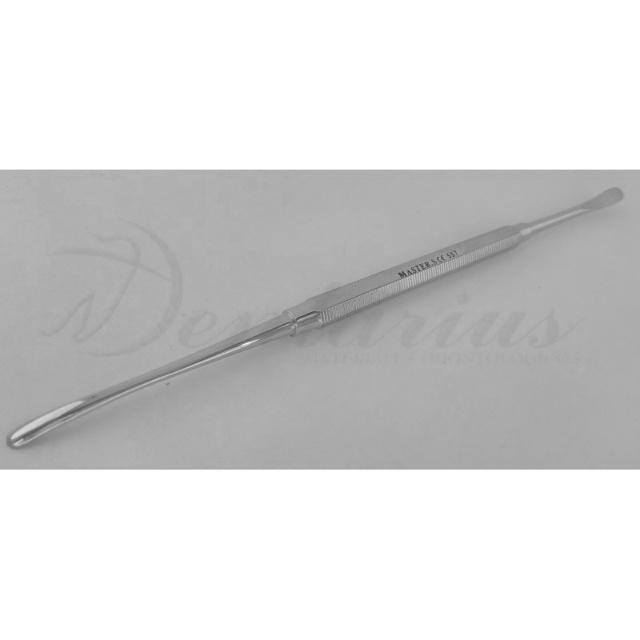elevador: (8, 188, 625, 450)
